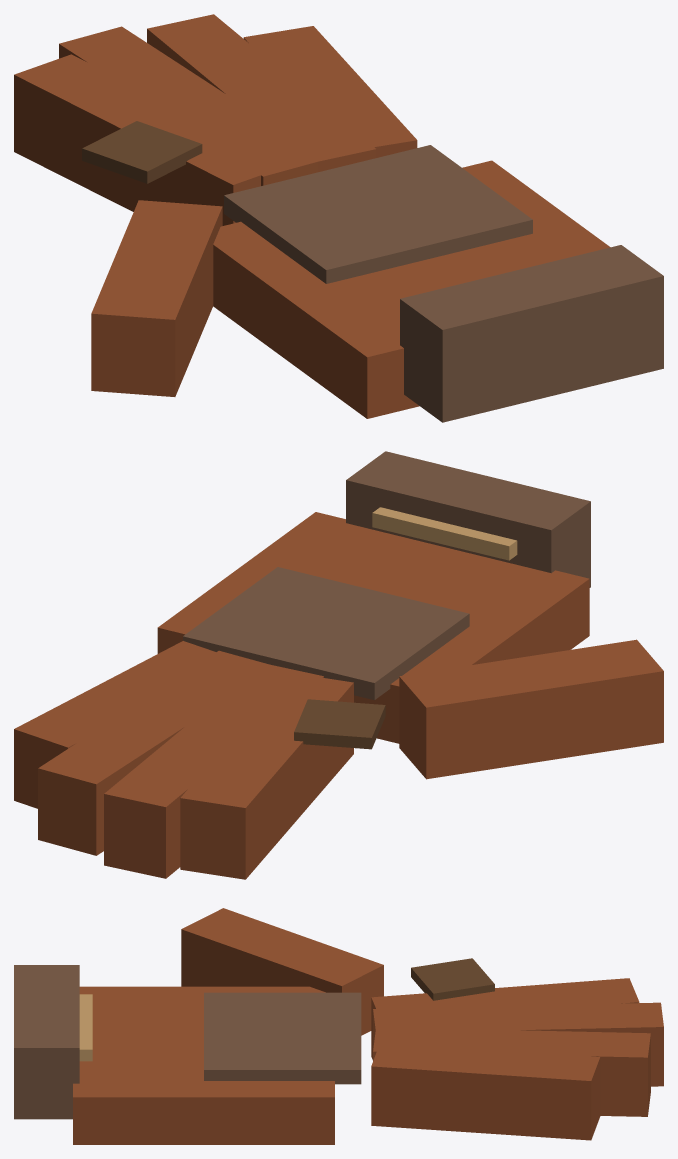
Rendered from GS_BaseballGlove_01.glb.
3 views of the same model, one above another, from view 1: azimuth 30°, elevation 25°; view 2: azimuth 150°, elevation 25°; view 3: azimuth 270°, elevation 25° (orthographic). The views are drawn at different scales.
Parts seen in each view (by area): view 1: GS_BaseballGlove_01; view 2: GS_BaseballGlove_01; view 3: GS_BaseballGlove_01.
Boxes of the visible parts, x1,y1,x2,y2 form: GS_BaseballGlove_01: [14, 14, 663, 422]; GS_BaseballGlove_01: [14, 451, 663, 879]; GS_BaseballGlove_01: [14, 908, 663, 1144].
Size of the model in its own units: 0.3206 by 0.07 by 0.496.
Materials: 1 (1 with a texture image).
